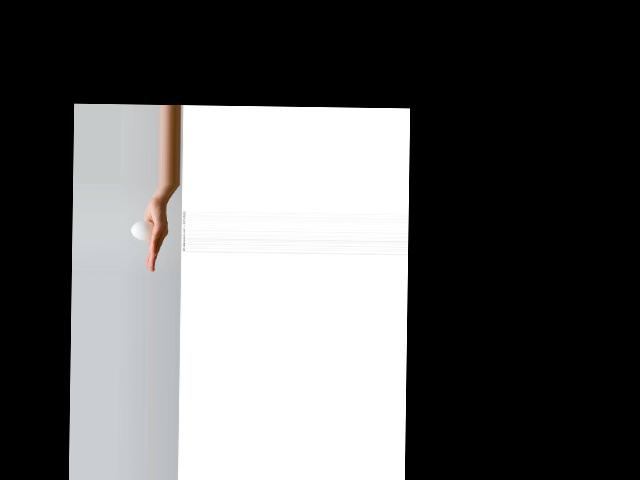egg: (131, 221, 154, 240)
